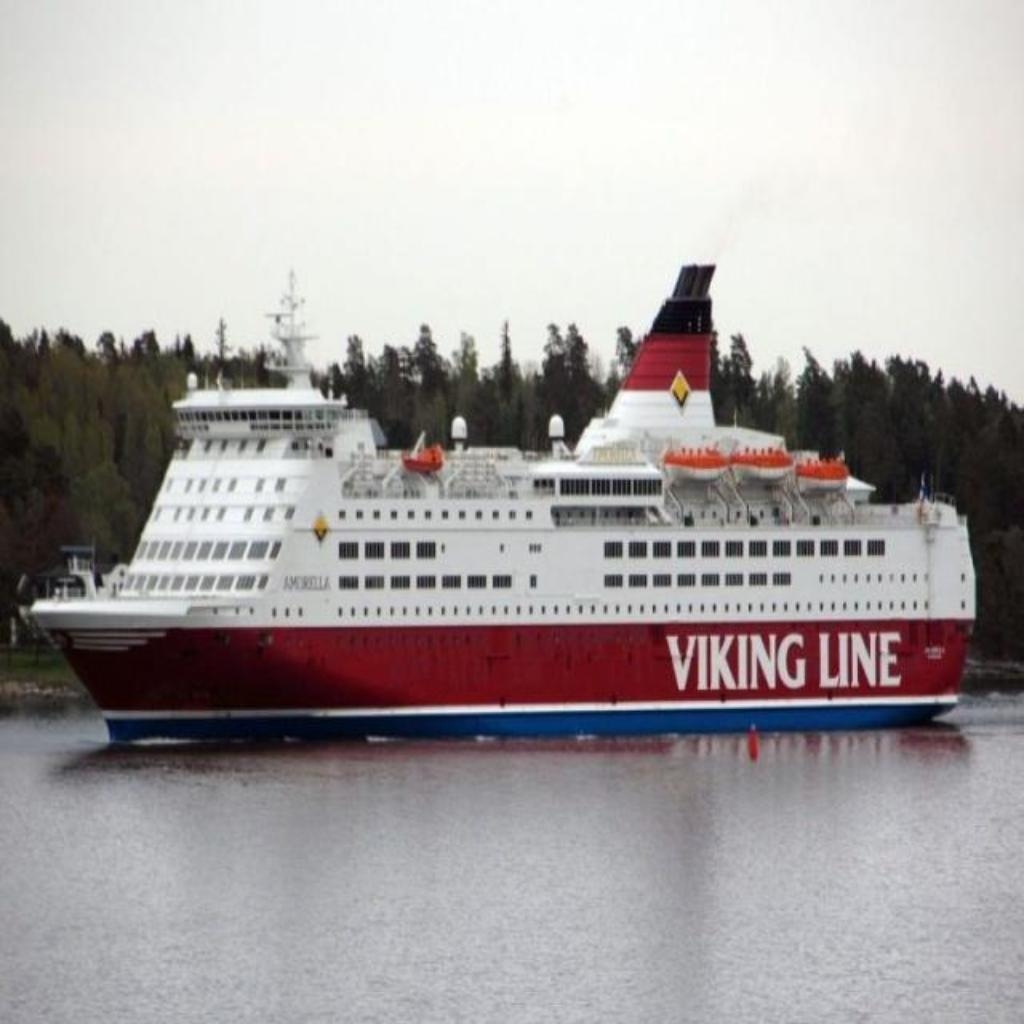PassengerShip: (16, 250, 980, 770)
